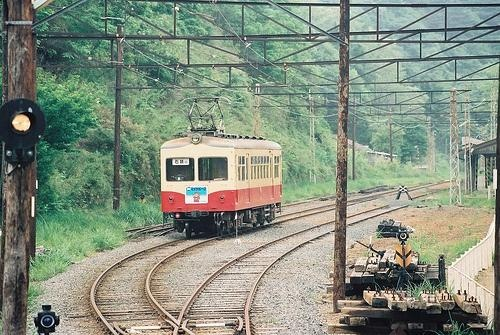train: (160, 134, 286, 239)
